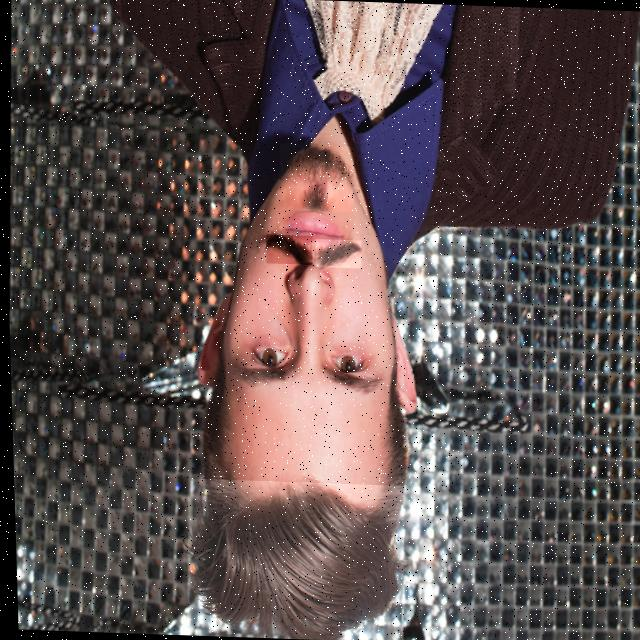beard: (278, 144, 351, 210), (264, 234, 309, 264), (314, 240, 359, 267)
hair: (184, 479, 399, 640)
